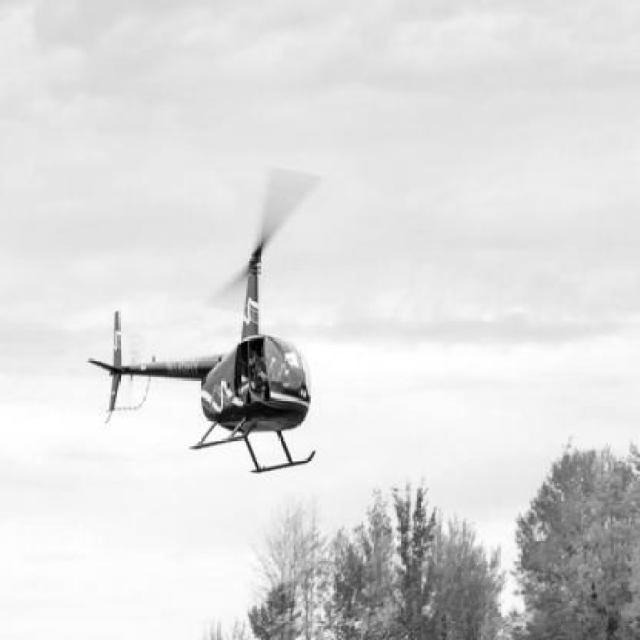helikopter: (81, 170, 322, 476)
